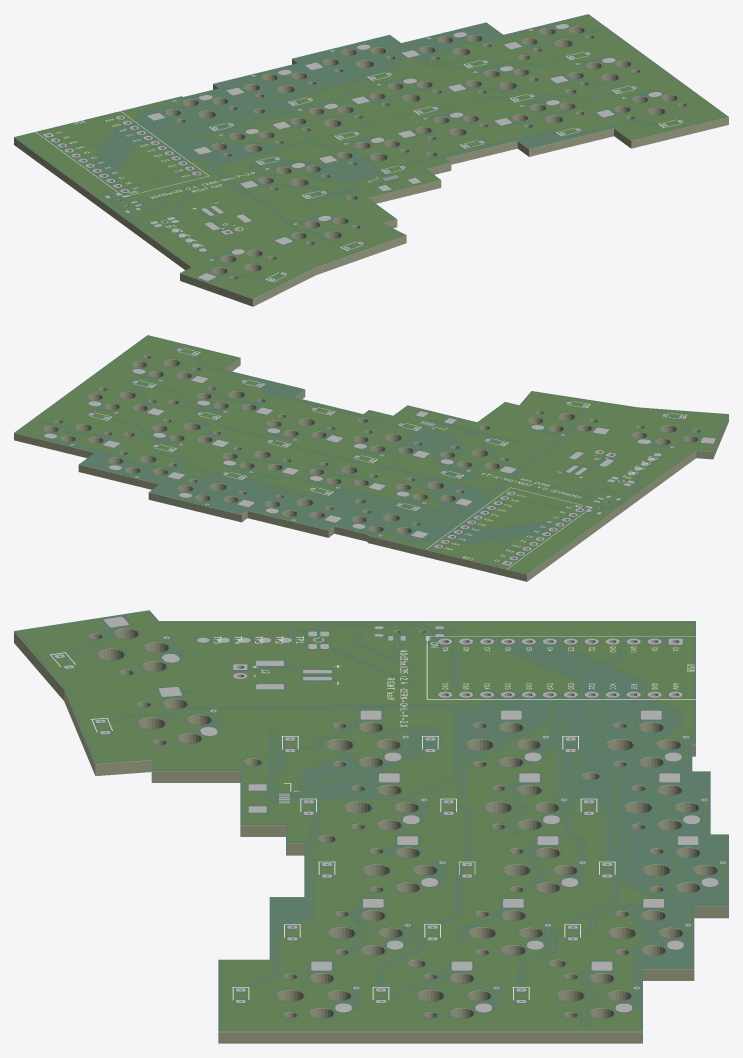
Rendered from k0d3ball35-right.glb.
The picture shows the model from 3 angles, top to bottom: view 1: azimuth 30°, elevation 25°; view 2: azimuth 150°, elevation 25°; view 3: azimuth 270°, elevation 25°; orthographic projection. The views are drawn at different scales.
Visible parts, largest first — view 1: =>[0:1:1:7], =>[0:1:1:2], =>[0:1:1:9], =>[0:1:1:3], =>[0:1:1:5], =>[0:1:1:8]; view 2: =>[0:1:1:7], =>[0:1:1:2], =>[0:1:1:9], =>[0:1:1:3], =>[0:1:1:5], =>[0:1:1:8]; view 3: =>[0:1:1:7], =>[0:1:1:2], =>[0:1:1:9], =>[0:1:1:3], =>[0:1:1:5], =>[0:1:1:8].
Part boxes in pixels (x1,y1,x2,y2): =>[0:1:1:7]: [14, 14, 728, 298]; =>[0:1:1:2]: [17, 16, 725, 297]; =>[0:1:1:9]: [14, 15, 728, 306]; =>[0:1:1:3]: [42, 24, 683, 280]; =>[0:1:1:5]: [35, 51, 681, 282]; =>[0:1:1:8]: [14, 93, 728, 306]; =>[0:1:1:7]: [14, 335, 728, 574]; =>[0:1:1:2]: [17, 336, 726, 572]; =>[0:1:1:9]: [14, 336, 728, 581]; =>[0:1:1:3]: [44, 348, 715, 565]; =>[0:1:1:5]: [90, 348, 686, 569]; =>[0:1:1:8]: [14, 366, 717, 581]; =>[0:1:1:7]: [14, 610, 728, 1031]; =>[0:1:1:2]: [18, 612, 722, 1030]; =>[0:1:1:9]: [14, 611, 728, 1043]; =>[0:1:1:3]: [54, 616, 725, 1012]; =>[0:1:1:5]: [50, 636, 695, 1000]; =>[0:1:1:8]: [14, 643, 728, 1043].
Bounding box in the file's own units: 0.121 × 0.00166 × 0.0867.
